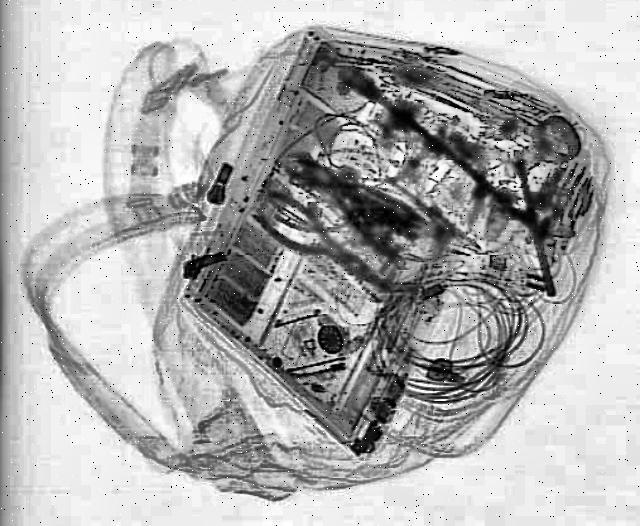Pliers: (238, 189, 407, 307)
